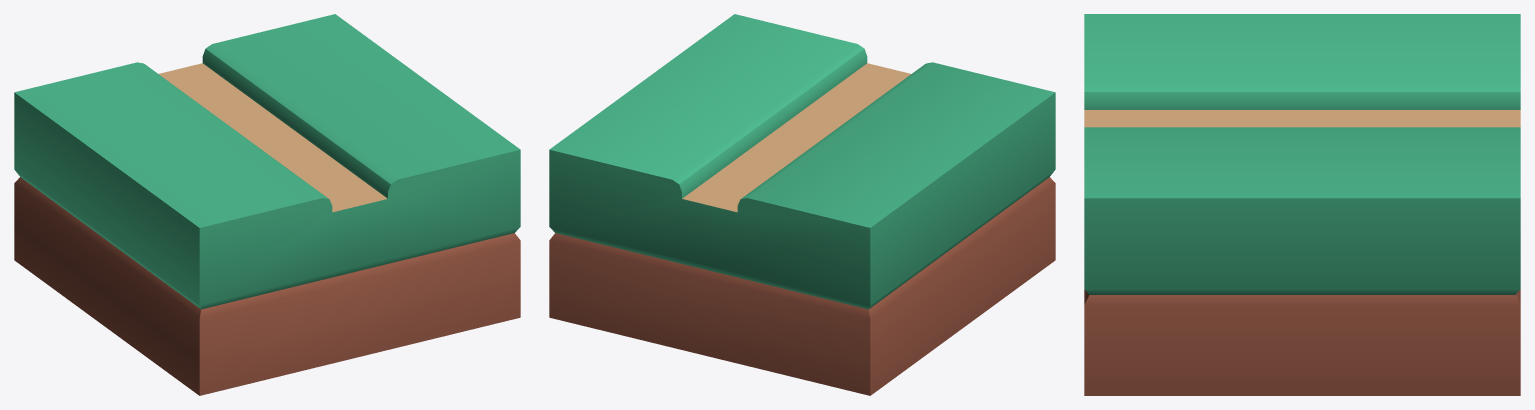
File: kaykit-square-forest-roadb-detail.glb
The picture shows the model from 3 angles, left to right: view 1: azimuth 30°, elevation 25°; view 2: azimuth 150°, elevation 25°; view 3: azimuth 270°, elevation 25°; orthographic projection. The views are drawn at different scales.
Visible parts, largest first — view 1: square_forest_roadB_detail; view 2: square_forest_roadB_detail; view 3: square_forest_roadB_detail.
Boxes of the visible parts, box(x1,y1,x2,y2) form: square_forest_roadB_detail: box(14, 14, 520, 395); square_forest_roadB_detail: box(549, 14, 1055, 395); square_forest_roadB_detail: box(1084, 14, 1520, 395).
Bounding box in the file's own units: 2 × 0.9998 × 2.
